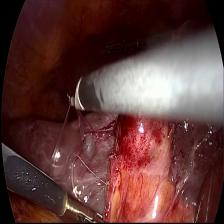Grasper: (62, 191, 111, 224), (100, 32, 141, 56)
Hook: (66, 74, 88, 117)
